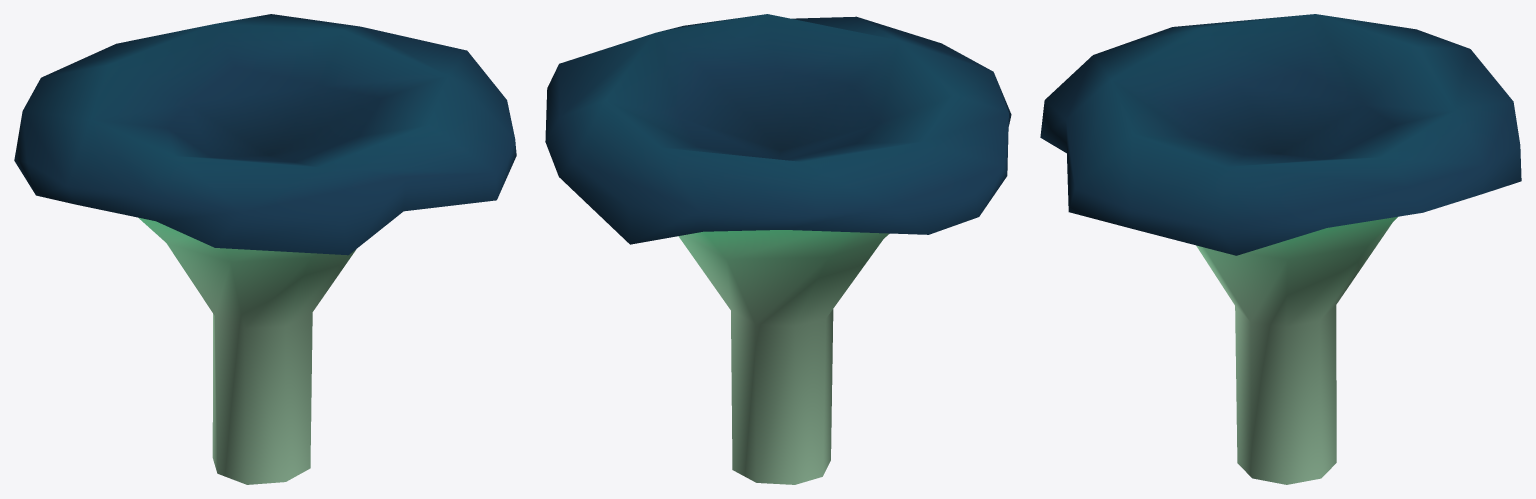
File: GroundMushroom.fbx
3 views of the same model, side by side, from view 1: azimuth 30°, elevation 25°; view 2: azimuth 150°, elevation 25°; view 3: azimuth 270°, elevation 25° (orthographic).
Visible parts, largest first — view 1: lightmushroom1_low; view 2: lightmushroom1_low; view 3: lightmushroom1_low.
Boxes of the visible parts, left/top/right/bottom form: lightmushroom1_low: left=14, top=14, right=516, bottom=484; lightmushroom1_low: left=545, top=14, right=1011, bottom=484; lightmushroom1_low: left=1040, top=14, right=1521, bottom=484.
Size of the model in its own units: 0.789 by 0.657 by 0.766.
